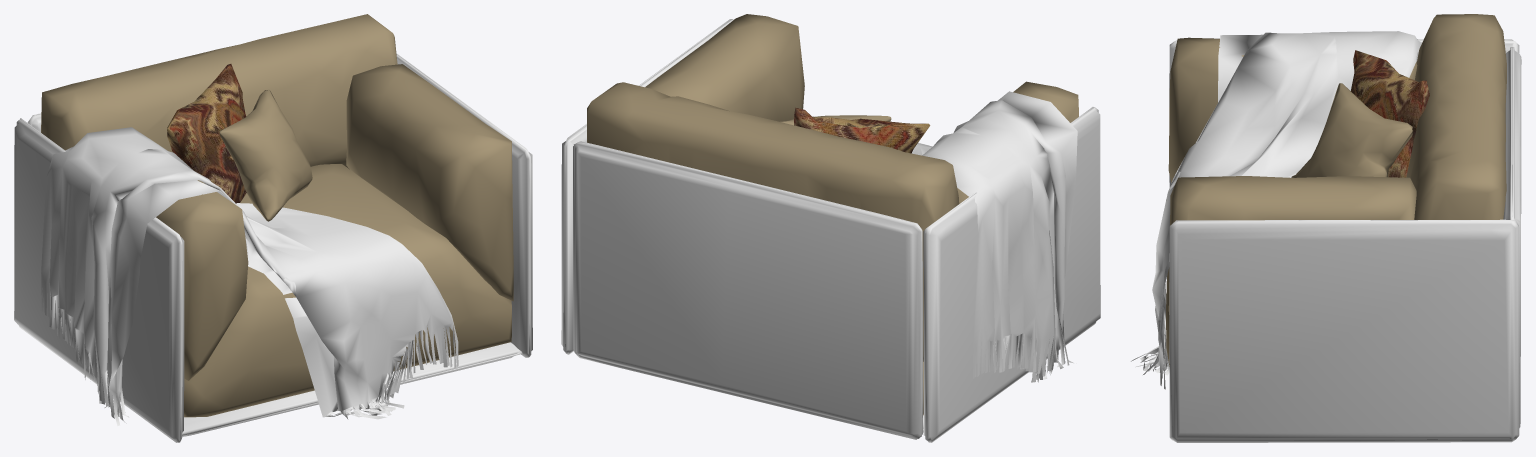
Rendered from MINICOUCH.fbx.
The picture shows the model from 3 angles, left to right: view 1: azimuth 30°, elevation 25°; view 2: azimuth 150°, elevation 25°; view 3: azimuth 270°, elevation 25°; orthographic projection. The views are drawn at different scales.
Visible parts, largest first — view 1: throw.005, Sofa.028, Sofa.027, Sofa.026, Sofa.029, cushion.019, cushion.020, Sofa.019; view 2: Sofa.023, throw.005, Sofa.027, Sofa.026, Sofa.028, cushion.020; view 3: Sofa.026, throw.005, Sofa.027, Sofa.028, cushion.019, cushion.020, Sofa.023.
Boxes of the visible parts, <box> form: throw.005: <box>41,127,458,425</box>; Sofa.028: <box>156,64,513,380</box>; Sofa.027: <box>41,14,397,169</box>; Sofa.026: <box>14,53,532,442</box>; Sofa.029: <box>184,164,511,417</box>; cushion.019: <box>219,89,312,221</box>; cushion.020: <box>167,64,246,203</box>; Sofa.019: <box>182,342,522,436</box>; Sofa.023: <box>573,141,922,439</box>; throw.005: <box>911,91,1077,382</box>; Sofa.027: <box>587,82,959,361</box>; Sofa.026: <box>561,19,1100,442</box>; Sofa.028: <box>645,14,1078,203</box>; cushion.020: <box>794,107,930,153</box>; Sofa.026: <box>1169,39,1519,442</box>; throw.005: <box>1131,31,1422,389</box>; Sofa.027: <box>1406,14,1506,219</box>; Sofa.028: <box>1168,37,1417,314</box>; cushion.019: <box>1291,83,1412,177</box>; cushion.020: <box>1351,50,1429,177</box>; Sofa.023: <box>1503,47,1521,427</box>.
Bounding box in the file's own units: 114 × 75.8 × 95.95.
6 materials, 1 textured.
